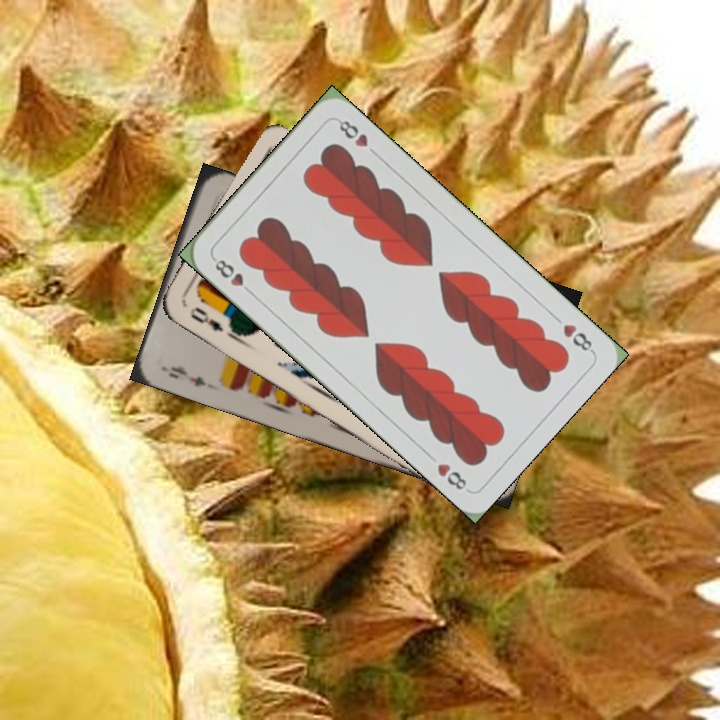E9: (159, 361, 208, 389)
EO: (185, 303, 226, 335)
H8: (209, 253, 257, 298), (559, 319, 596, 355)
